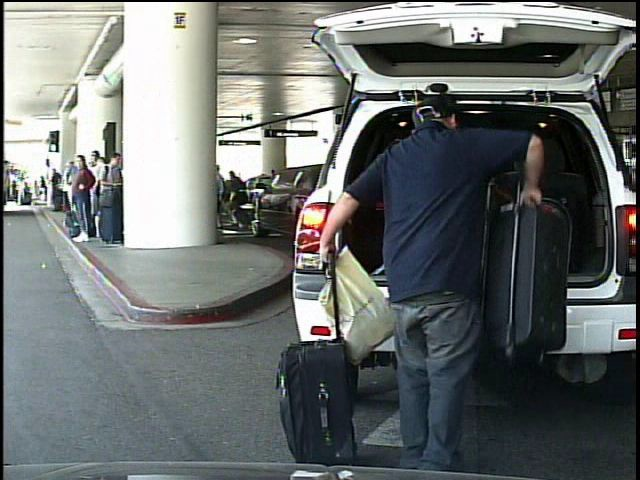person: (320, 91, 542, 471), (228, 167, 251, 233), (215, 163, 232, 229), (37, 173, 49, 202), (18, 176, 28, 206)
